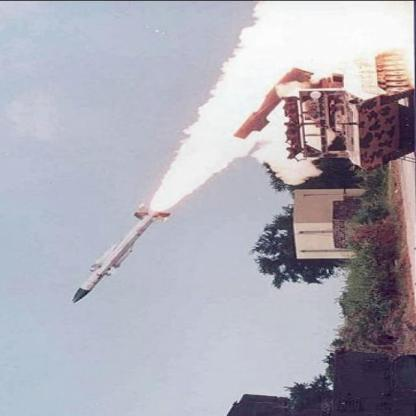MIL_TBM: (67, 204, 178, 310)
